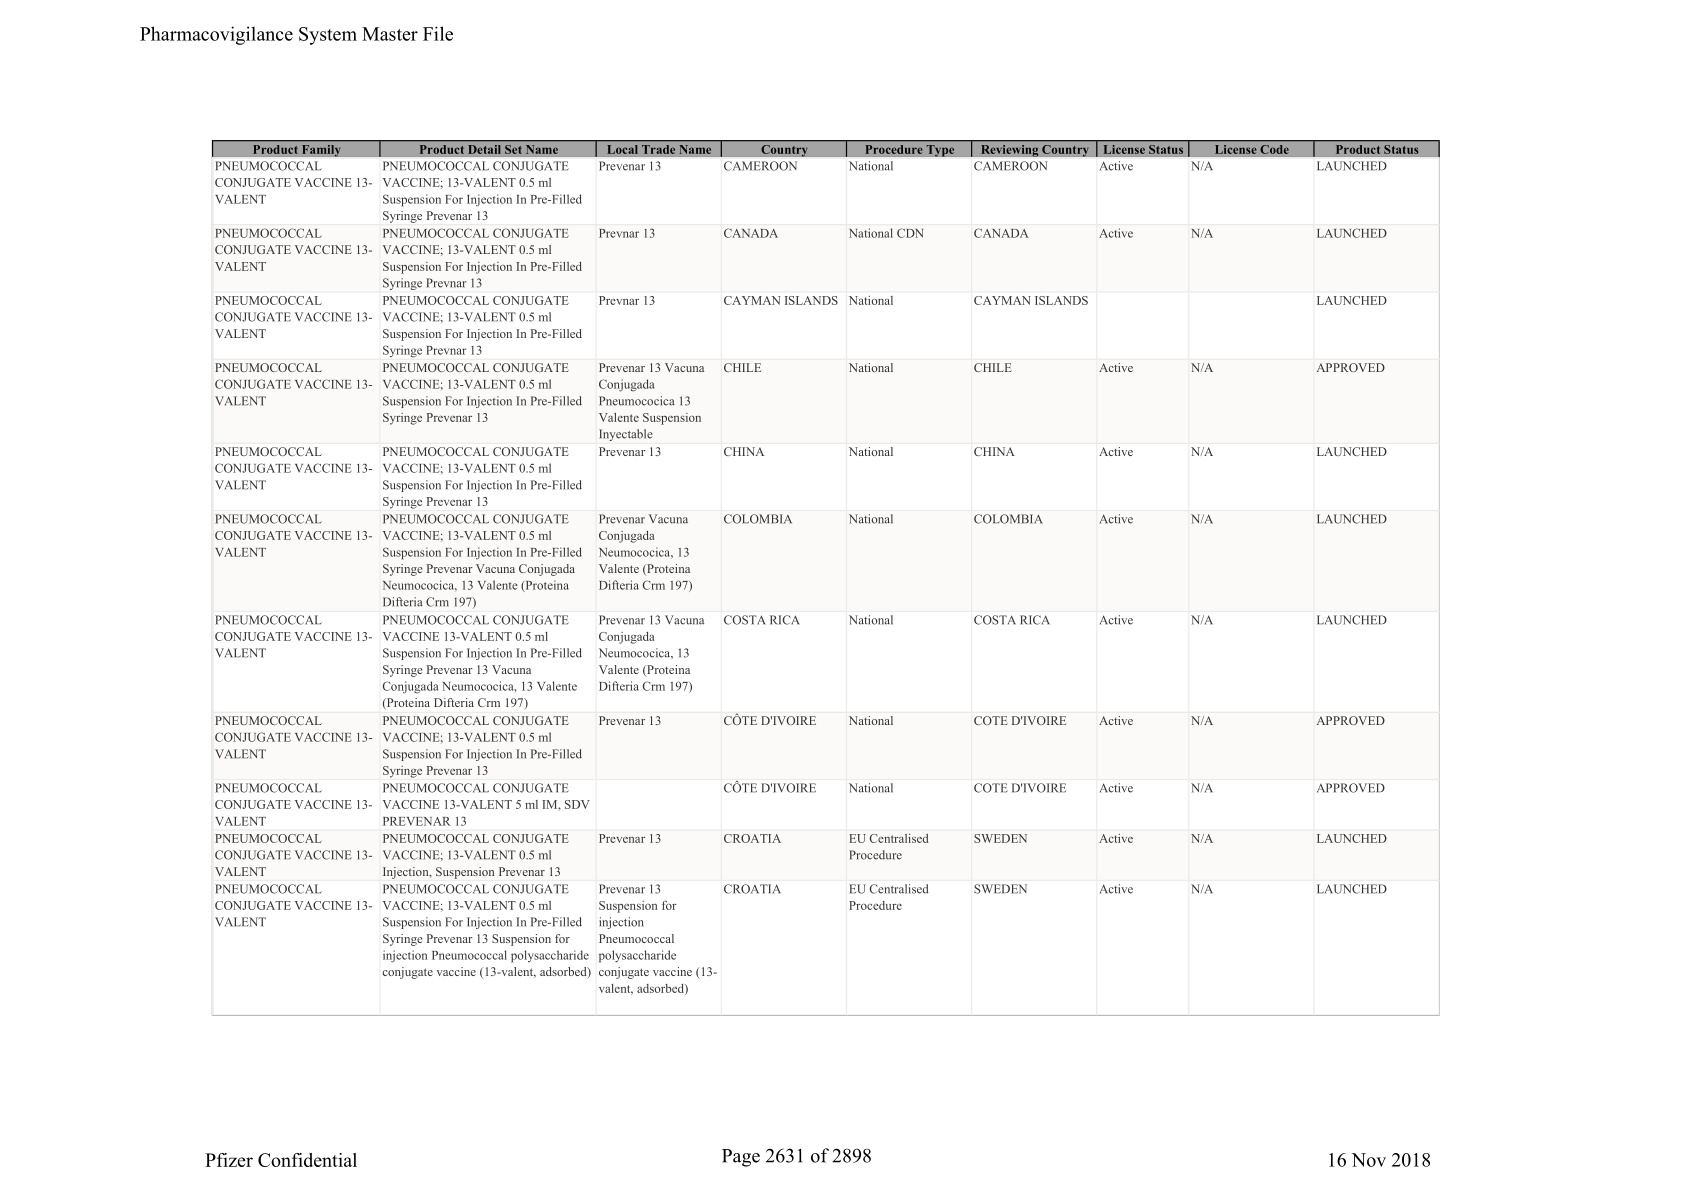full_lined: (211, 139, 1441, 1018)
